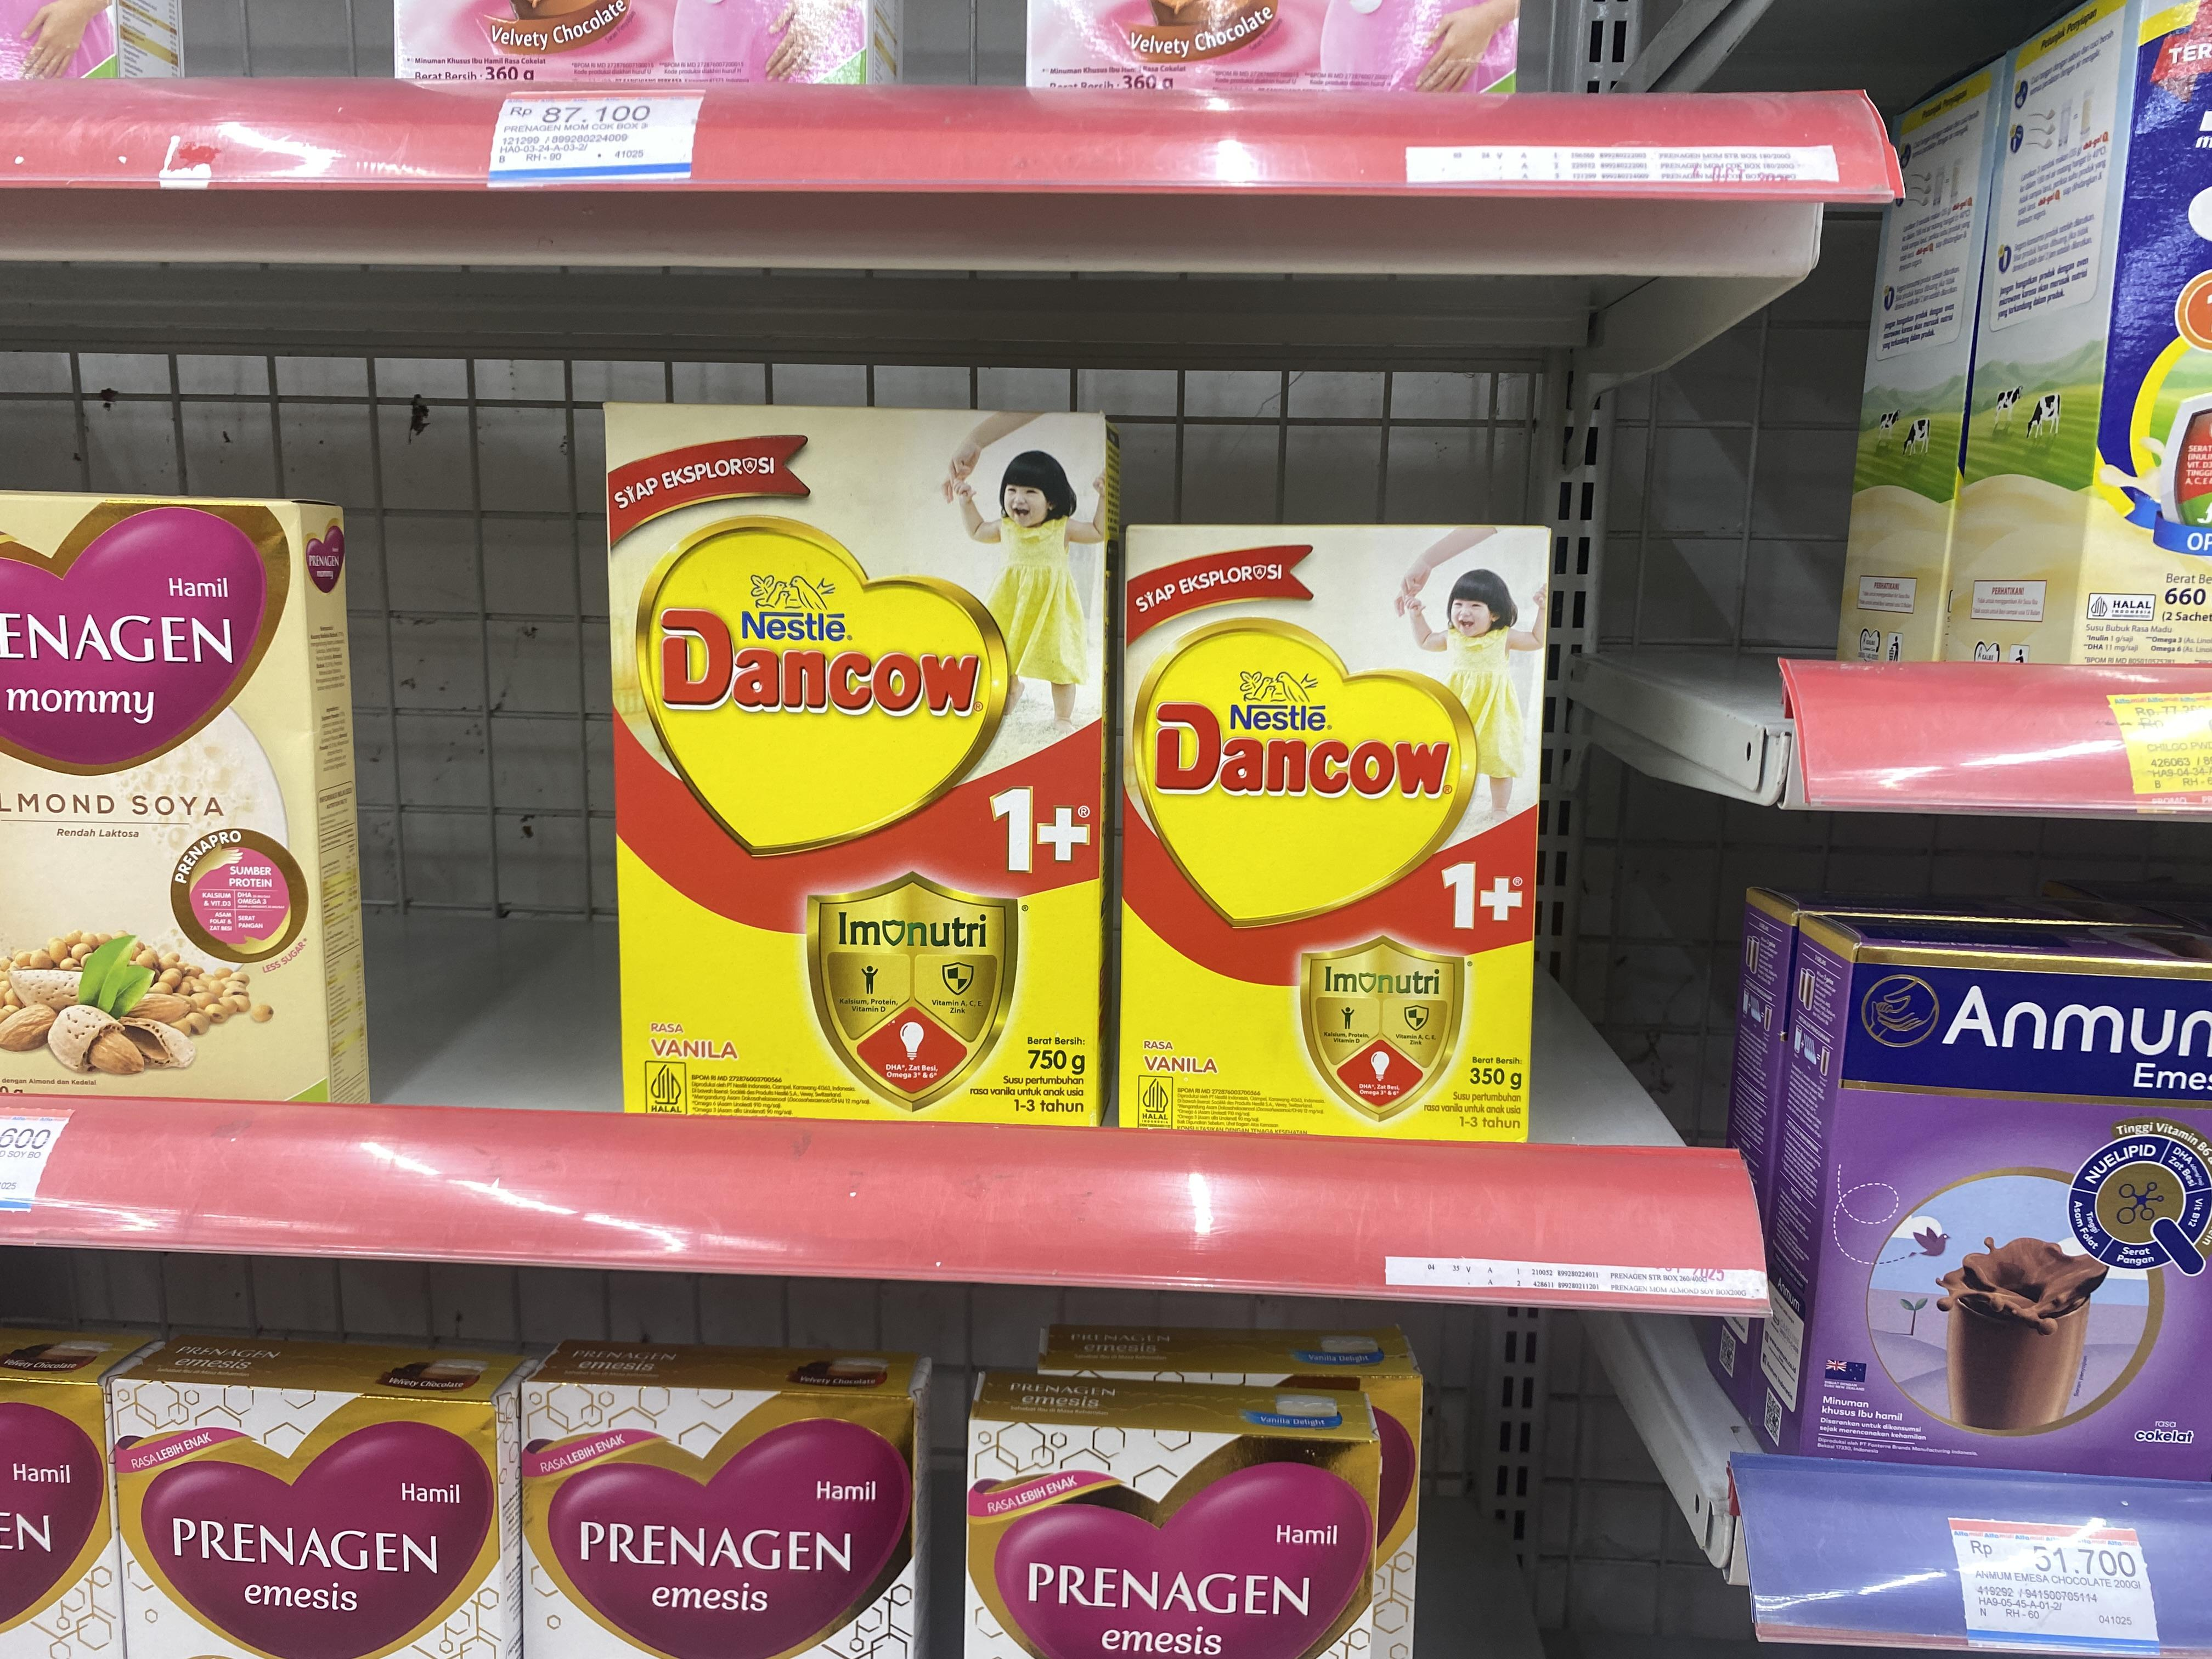DANCOW 1+ Van Advn ExcNutr 12x800g N1 ID_REDESIGN3: (1115, 521, 1538, 1140)
